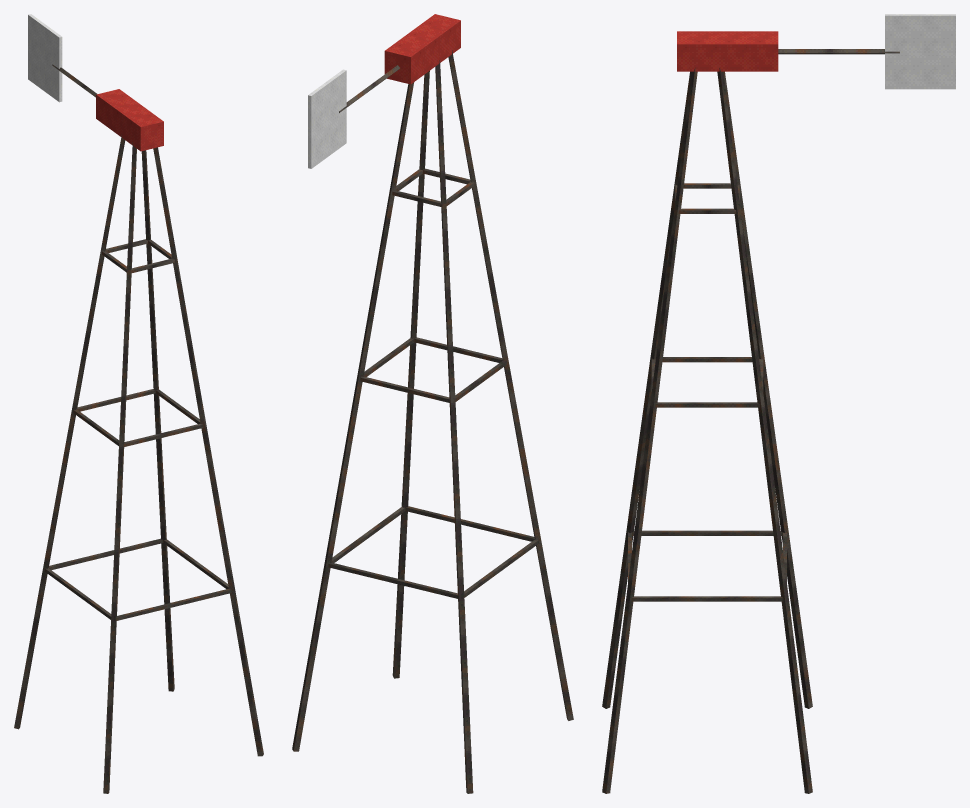
File: aeromotor.obj
3 renders of one model, left to right at view 1: azimuth 30°, elevation 25°; view 2: azimuth 150°, elevation 25°; view 3: azimuth 270°, elevation 25°, orthographic. The views are drawn at different scales.
Parts seen in each view (by area): view 1: aeromotor; view 2: aeromotor; view 3: aeromotor.
Boxes of the visible parts, left/top/right/bottom form: aeromotor: left=14, top=14, right=263, bottom=793; aeromotor: left=292, top=14, right=573, bottom=793; aeromotor: left=602, top=14, right=955, bottom=793.
Size of the model in its own units: 2.08 by 8 by 3.49.
3 materials, 3 textured.
